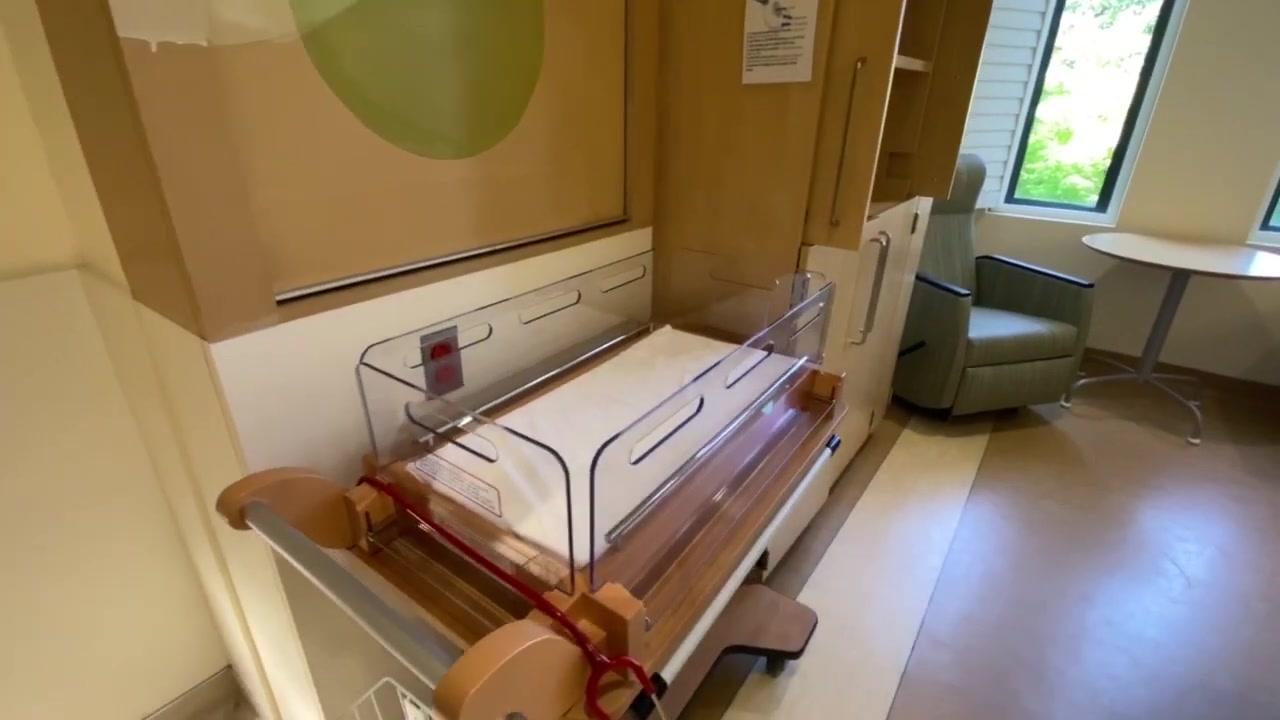handle: (828, 55, 866, 228), (849, 238, 886, 346), (859, 228, 895, 336)
sofa: (883, 150, 1101, 423)
table: (1069, 229, 1279, 448)
